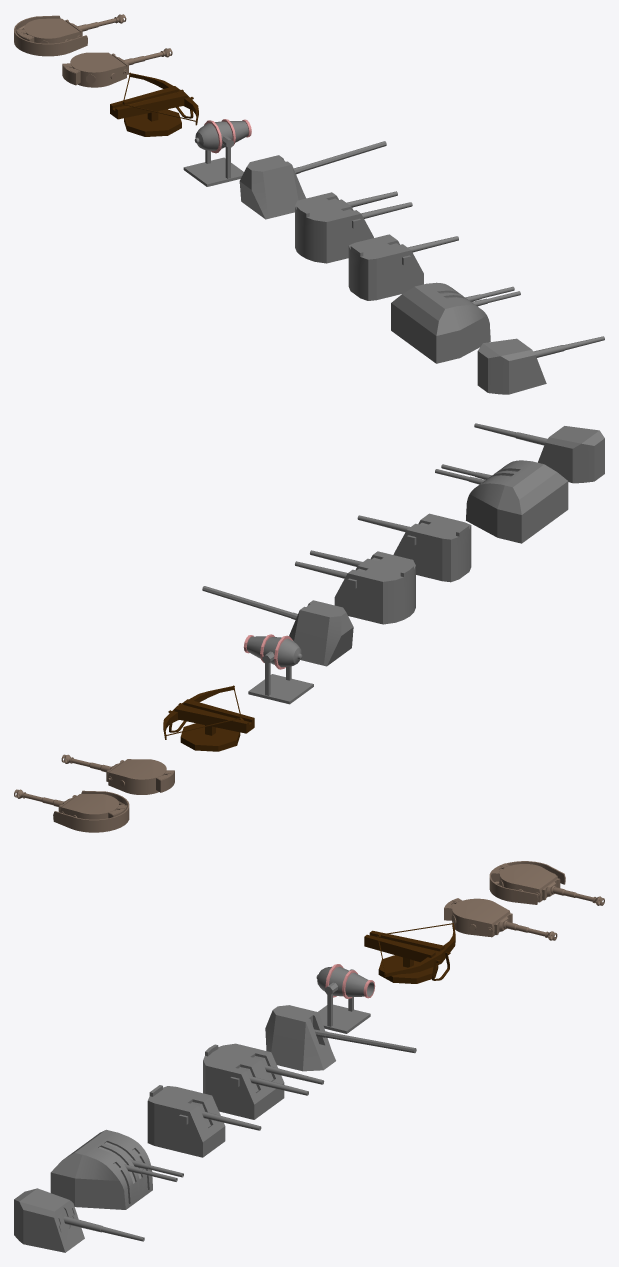
File: WEAPON.fbx
3 renders of one model, top to bottom at view 1: azimuth 30°, elevation 25°; view 2: azimuth 150°, elevation 25°; view 3: azimuth 330°, elevation 25°, orthographic. The views are drawn at different scales.
Visible parts, largest first — view 1: 102, 큐브, 큐브.001, prop, 150mm, Object_2, 포탑.001, Cylinder, 포탑; view 2: 102, 큐브, 큐브.001, prop, Object_2, 150mm, 포탑.001, Cylinder, 포탑; view 3: 102, 큐브, 큐브.001, prop, 150mm, Object_2, 포탑.001, Cylinder, 포탑.
Boxes of the visible parts, box(x1,y1,x2,y2) form: 102: box(391, 282, 520, 363); 큐브: box(295, 191, 412, 263); 큐브.001: box(348, 234, 458, 300); prop: box(239, 141, 386, 219); 150mm: box(477, 336, 604, 394); Object_2: box(110, 72, 198, 136); 포탑.001: box(14, 14, 126, 56); Cylinder: box(183, 119, 251, 186); 포탑: box(62, 48, 172, 87); 102: box(435, 460, 568, 543); 큐브: box(295, 550, 415, 624); 큐브.001: box(357, 513, 471, 582); prop: box(202, 586, 353, 666); Object_2: box(163, 685, 254, 751); 150mm: box(474, 423, 604, 483); 포탑.001: box(14, 789, 129, 832); Cylinder: box(243, 634, 313, 704); 포탑: box(61, 754, 174, 794); 102: box(50, 1129, 183, 1209); 큐브: box(203, 1043, 324, 1119); 큐브.001: box(147, 1085, 261, 1157); prop: box(265, 1005, 416, 1071); 150mm: box(14, 1188, 144, 1252); Object_2: box(364, 923, 455, 983); 포탑.001: box(489, 861, 604, 905); Cylinder: box(316, 964, 375, 1033); 포탑: box(444, 898, 557, 940).
Bounding box in the file's own units: 627 × 199 × 3359.
